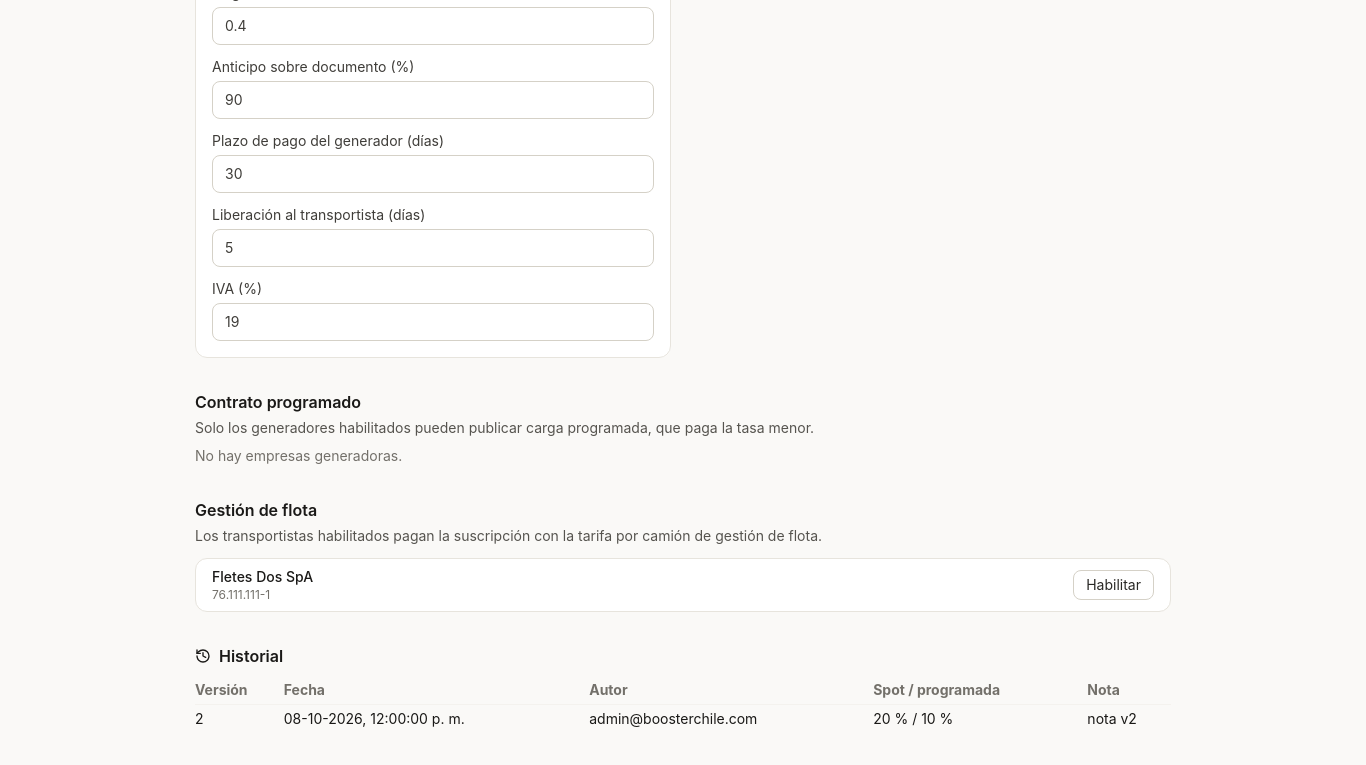
contrato programado (ADR-079 §2) › gestión de flota: lista transportistas y activa uno
(page scrolled)
Click the button with aria-label "Habilitar gestión de flota de Fletes Dos SpA": (1114, 585) [1073,570,1154,600]
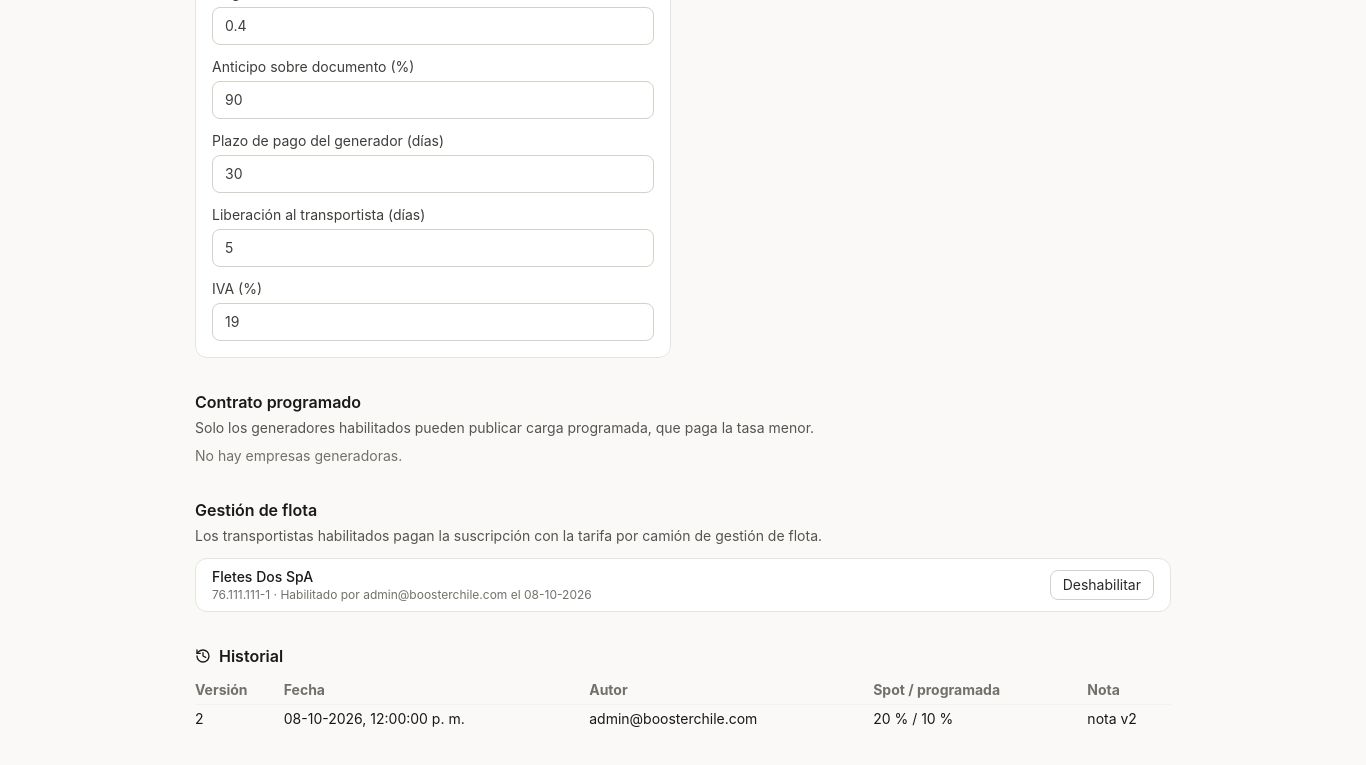
Expected: the text "No hay empresas generadoras." is shown, [195,447,402,464]
Now the button with aria-label "Deshabilitar gestión de flota de Fletes Dos SpA" is shown, box [1050,570,1154,600]
